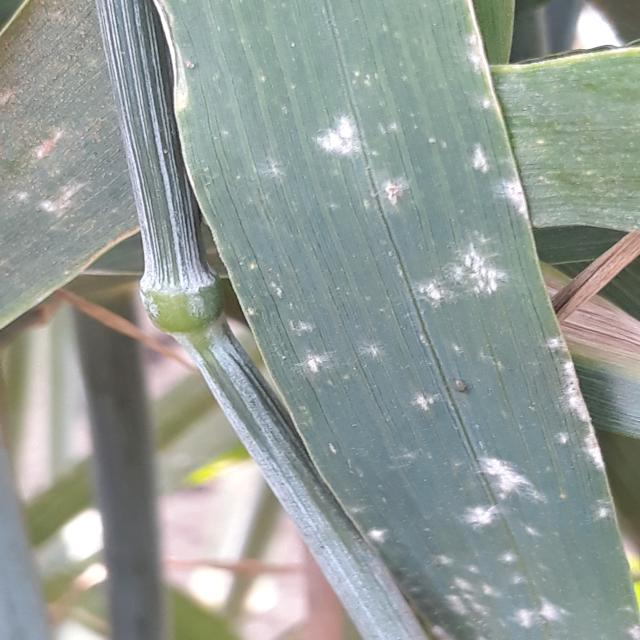powder_mildew: (128, 0, 633, 640), (0, 3, 124, 293)
